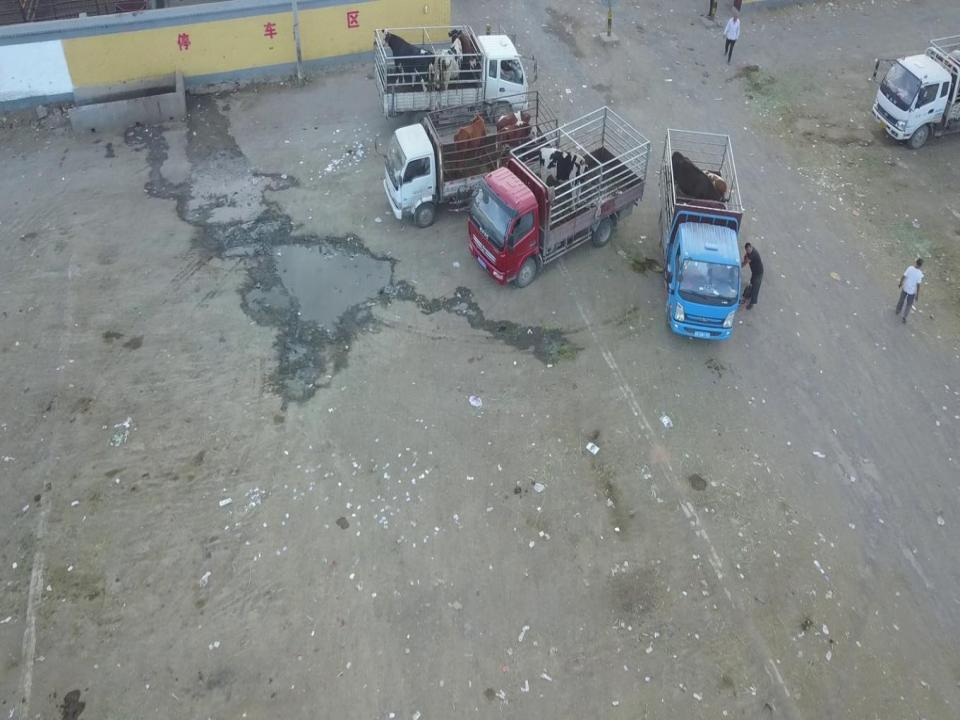truck: (467, 106, 653, 286), (660, 125, 738, 341), (381, 119, 534, 227), (372, 20, 531, 112), (871, 39, 958, 145)
